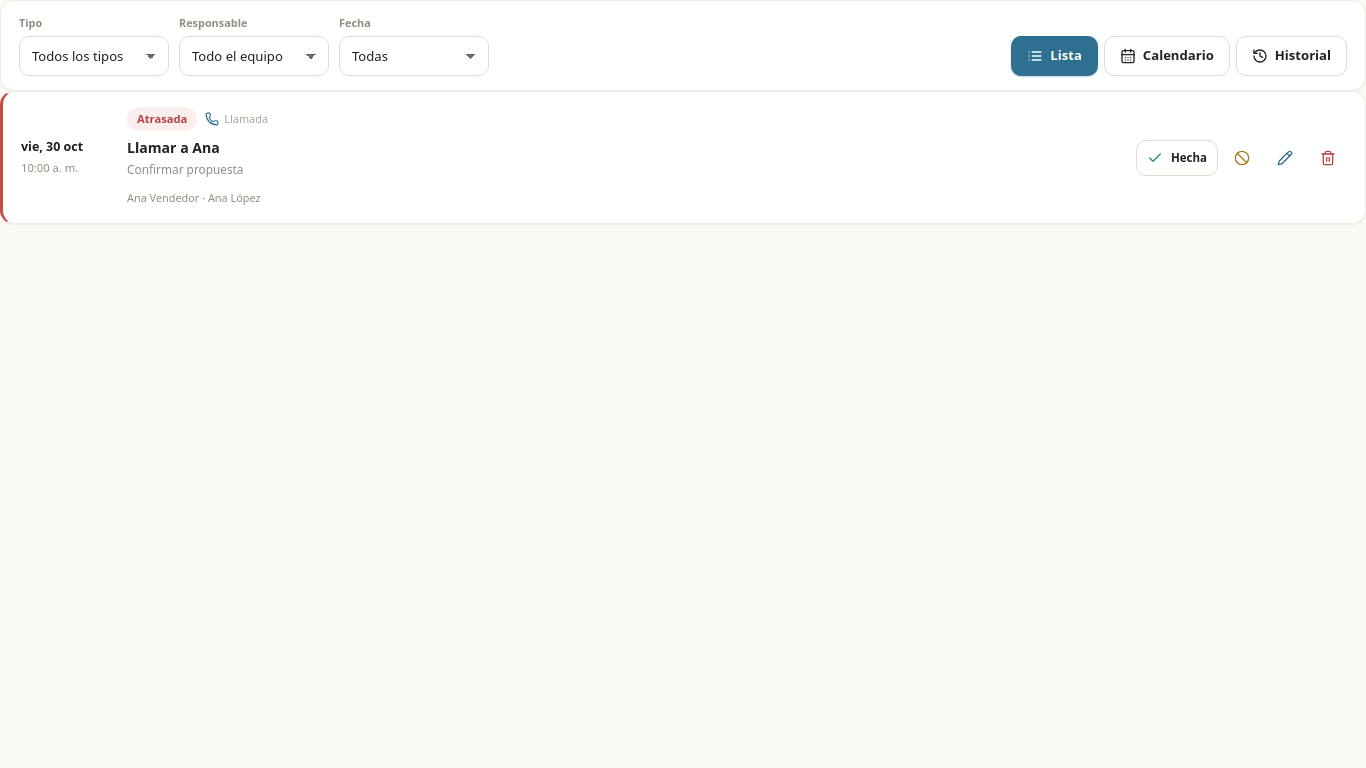
Test: un conflicto al editar cierra el diálogo y refresca la versión reciente
What coordinates should you click on to do the following:
click the button named "Editar Llamar a Ana"
I would click on:
 (1285, 158)
Its box is top-left (1266, 140), bottom-right (1304, 176).
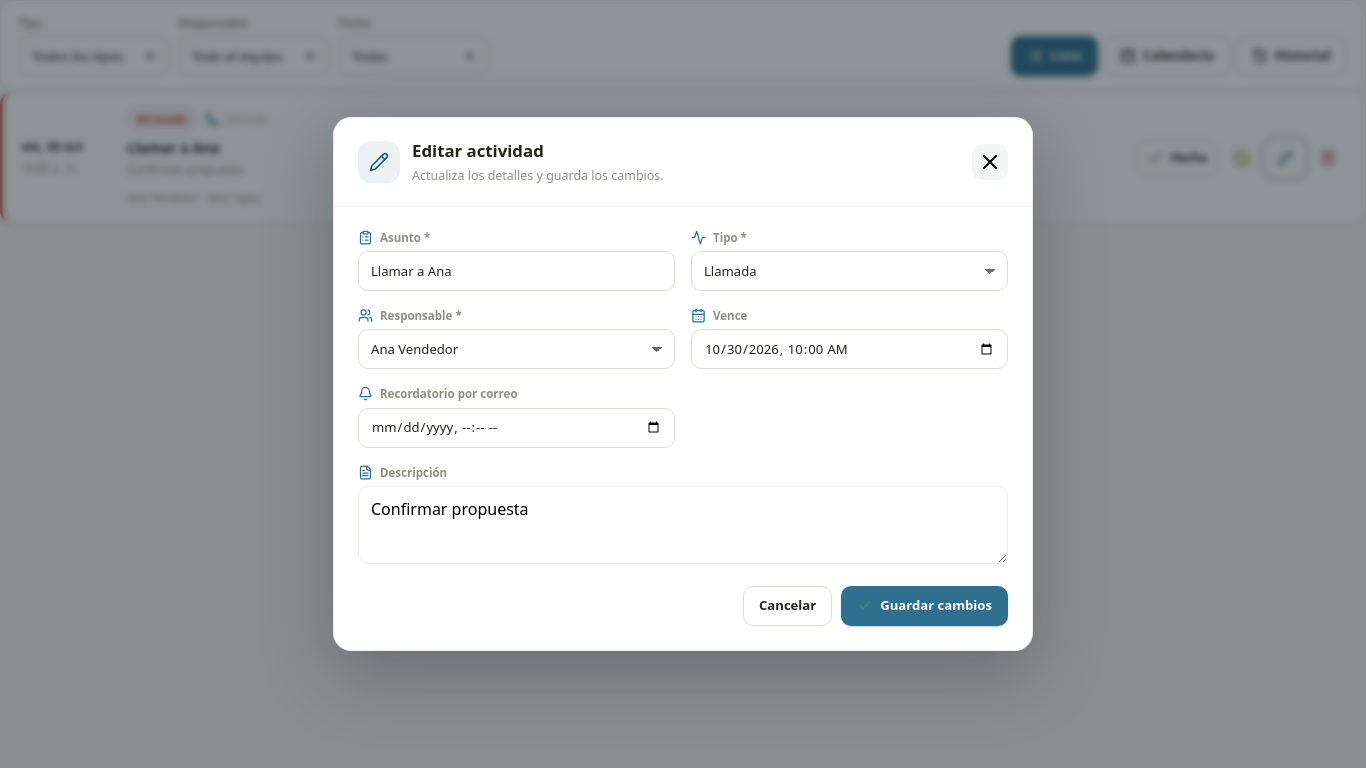
What coordinates should you click on to do the following:
click the button "Guardar cambios"
I would click on:
 (925, 606)
Its box is top-left (841, 586), bottom-right (1008, 626).
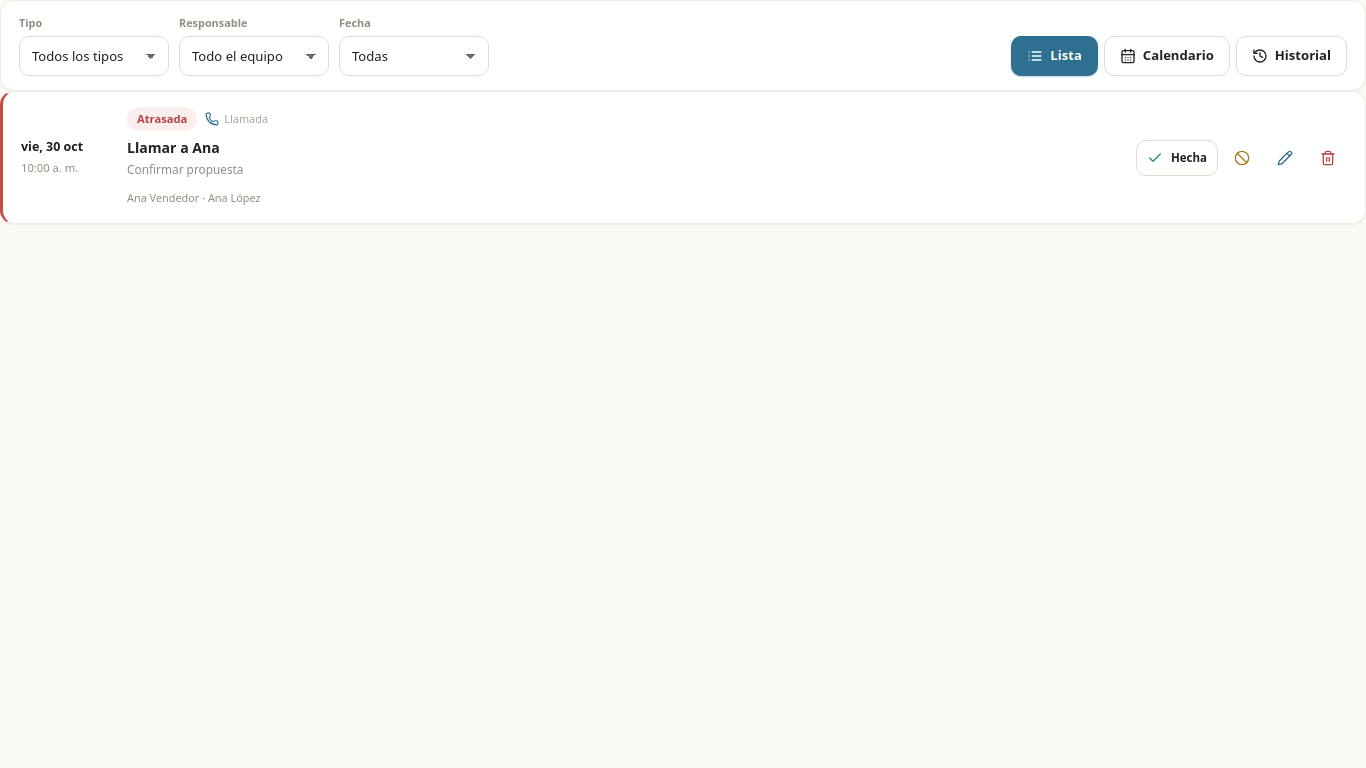
Check: the dialog is gone
